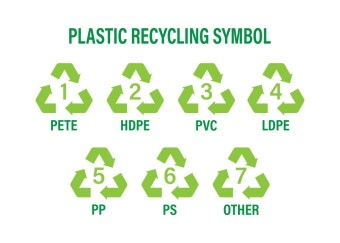plastic: (142, 147, 199, 217), (69, 27, 128, 44)
